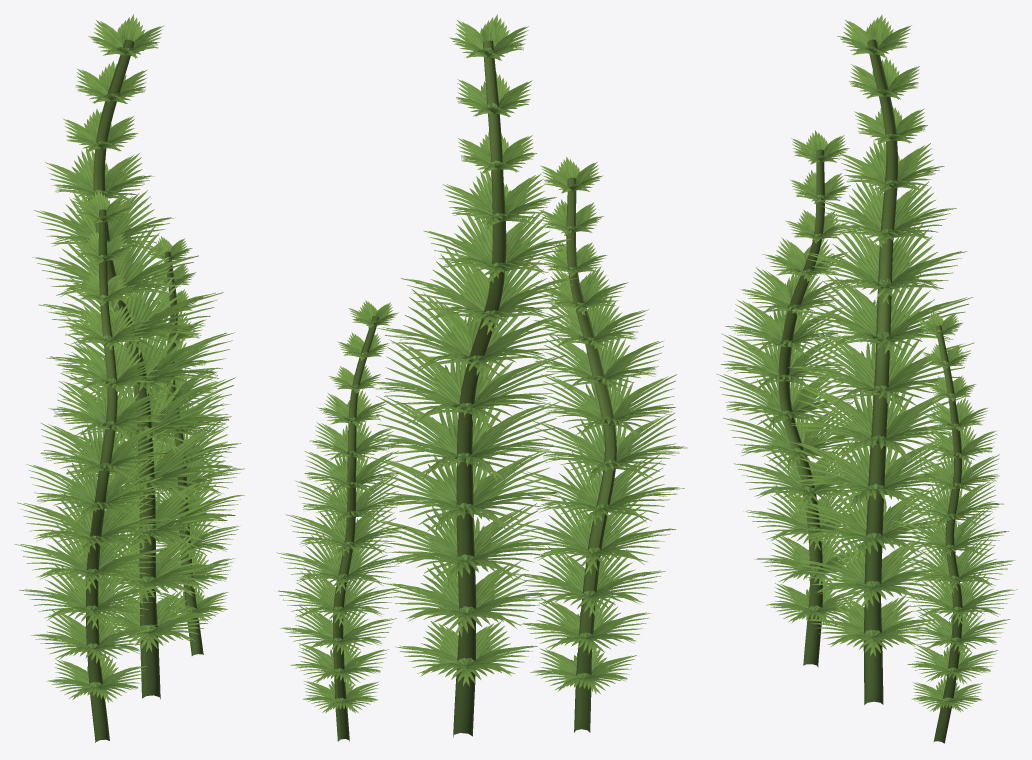
The model's file is pianta-cabomba.glb.
3 views of the same model, side by side, from view 1: azimuth 30°, elevation 25°; view 2: azimuth 150°, elevation 25°; view 3: azimuth 270°, elevation 25° (orthographic). The views are drawn at different scales.
Parts seen in each view (by area): view 1: fogliame (×3), fusto (×3); view 2: fogliame (×3), fusto (×3); view 3: fogliame (×3), fusto (×3).
Part boxes in pixels (x1,y1,x2,y2): fogliame (×3): [14, 14, 244, 702]; fusto (×3): [86, 39, 203, 742]; fogliame (×3): [274, 14, 687, 713]; fusto (×3): [333, 40, 616, 741]; fogliame (×3): [716, 14, 1017, 712]; fusto (×3): [778, 39, 962, 743].
Bounding box in the file's own units: 0.1538 × 0.3461 × 0.1426.
